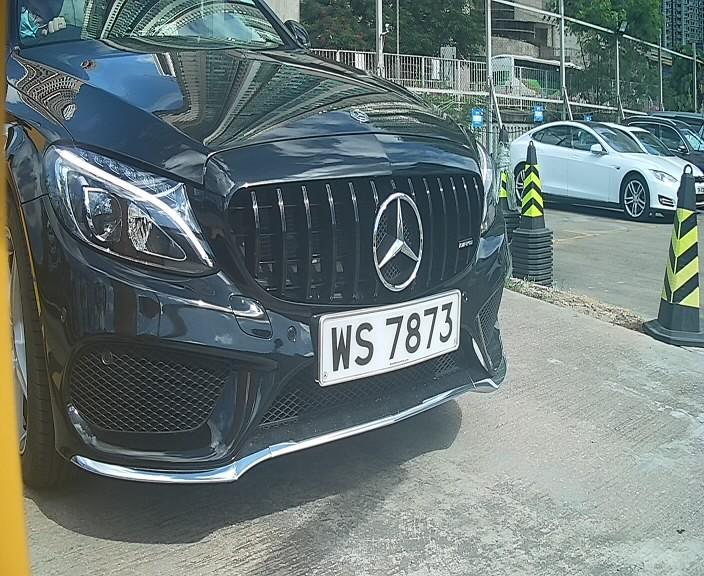License Plate: (312, 289, 459, 384)
